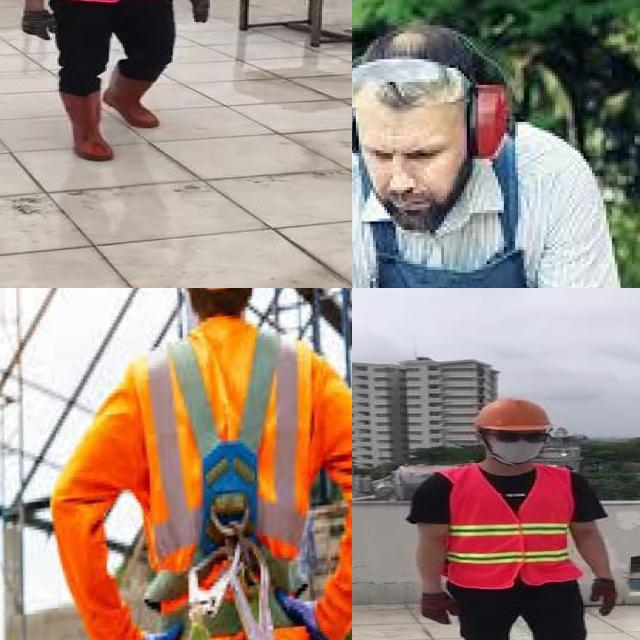Ear-protection: (464, 73, 507, 156)
Harness: (168, 331, 282, 640)
boots: (55, 90, 116, 161), (105, 60, 162, 128)
face_mask: (488, 428, 550, 463)
glasses: (352, 53, 464, 107), (489, 428, 546, 444)
hand_glove: (420, 590, 460, 626), (18, 10, 61, 40), (590, 577, 617, 618), (186, 0, 213, 23)
head_helmet: (471, 396, 555, 434)
person: (352, 15, 640, 288), (412, 394, 625, 640), (4, 0, 212, 170)
vest: (442, 464, 578, 585)
